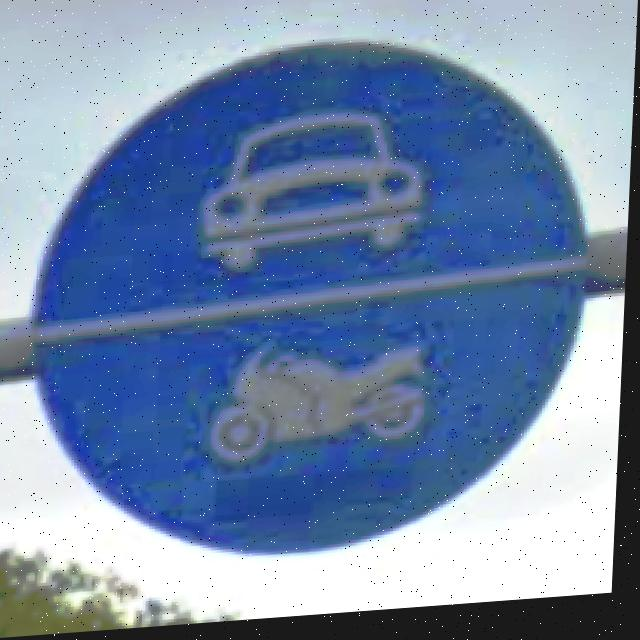carmotorcycle: (31, 48, 593, 562)
